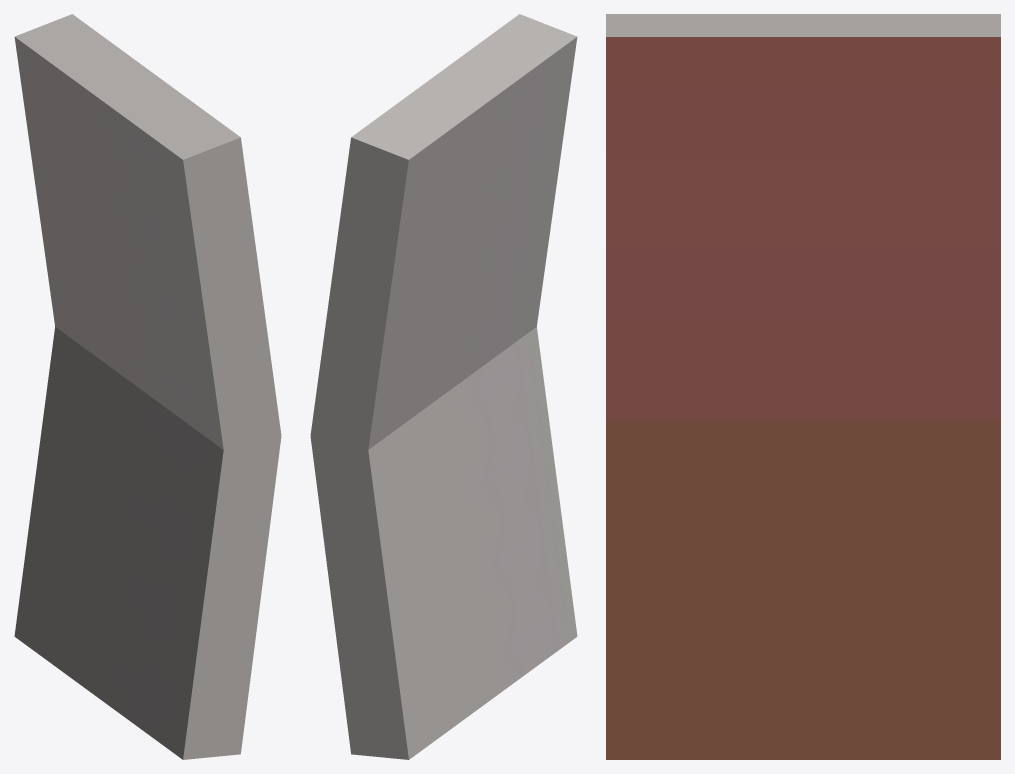
Rendered from garageDoors.fbx.
The picture shows the model from 3 angles, left to right: view 1: azimuth 30°, elevation 25°; view 2: azimuth 150°, elevation 25°; view 3: azimuth 270°, elevation 25°; orthographic projection. The views are drawn at different scales.
Visible parts, largest first — view 1: GarageDoors; view 2: GarageDoors; view 3: GarageDoors.
Boxes of the visible parts, x1=… form: GarageDoors: x1=14, y1=14, x2=281, y2=759; GarageDoors: x1=310, y1=14, x2=577, y2=759; GarageDoors: x1=606, y1=14, x2=1000, y2=759.
Bounding box in the file's own units: 16.87 × 101 × 50.
